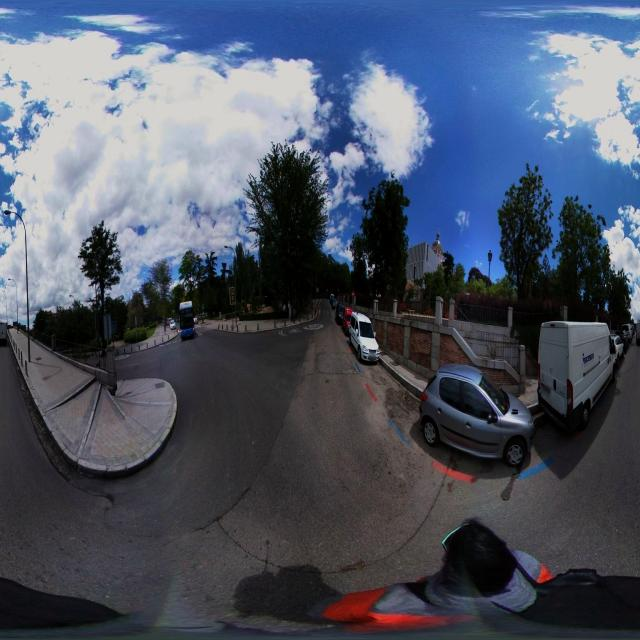car: (419, 368, 536, 470), (481, 358, 524, 388), (354, 322, 380, 364), (348, 313, 369, 345), (610, 332, 624, 359), (342, 306, 355, 334), (344, 308, 356, 336), (620, 322, 633, 346), (0, 321, 8, 347), (336, 304, 345, 324), (329, 292, 336, 306)
